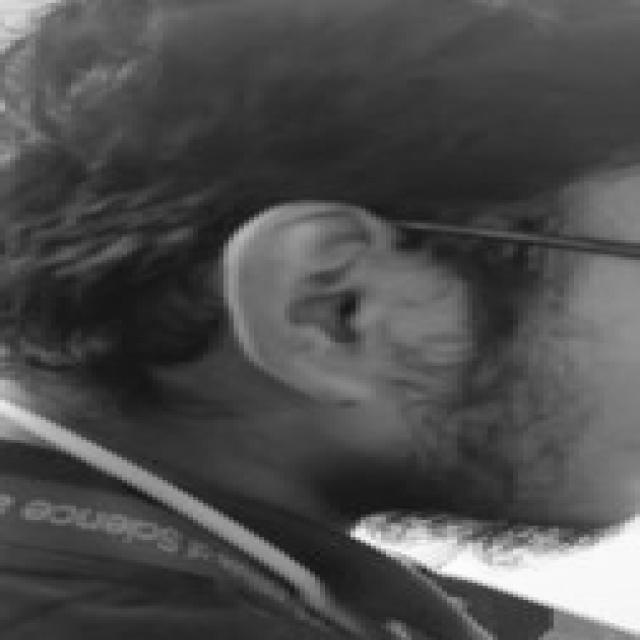ear: (223, 200, 381, 400)
